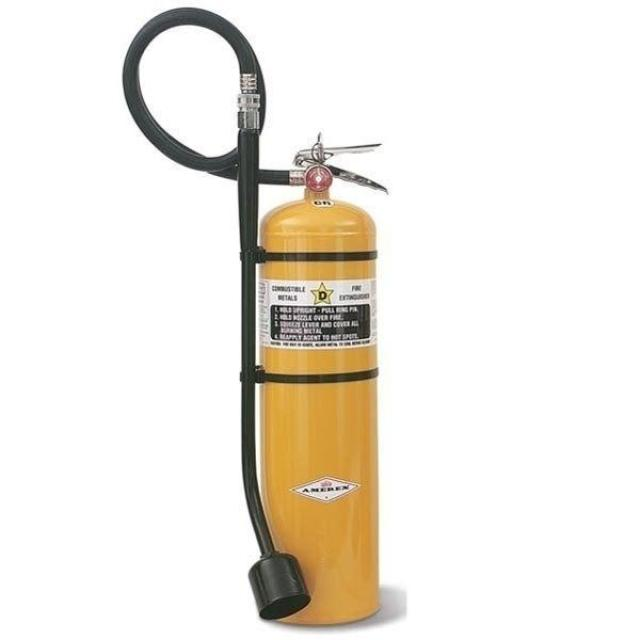fire_extinguisher: (115, 2, 396, 633)
